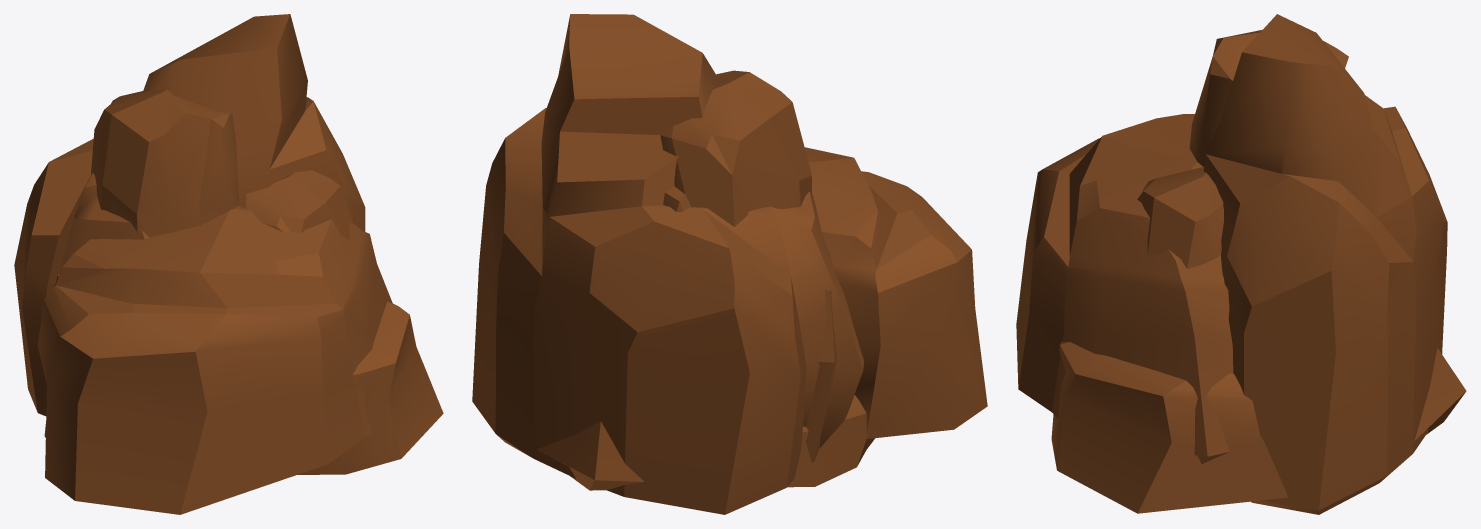
Rendered from rock.glb.
3 renders of one model, left to right at view 1: azimuth 30°, elevation 25°; view 2: azimuth 150°, elevation 25°; view 3: azimuth 270°, elevation 25°, orthographic. The views are drawn at different scales.
Parts seen in each view (by area): view 1: Rock_Large_2, Rock_Large_3, Rock_Large_1; view 2: Rock_Large_2, Rock_Large_3, Rock_Large_1; view 3: Rock_Large_2, Rock_Large_1, Rock_Large_3.
Part boxes in pixels (box(x1,y1,x2,y2)): Rock_Large_2: box(14, 14, 392, 514); Rock_Large_3: box(91, 89, 352, 240); Rock_Large_1: box(44, 301, 443, 474); Rock_Large_2: box(472, 14, 987, 514); Rock_Large_3: box(660, 70, 811, 226); Rock_Large_1: box(537, 395, 874, 490); Rock_Large_2: box(1016, 14, 1447, 514); Rock_Large_1: box(1051, 341, 1466, 513); Rock_Large_3: box(1137, 29, 1348, 268).
Size of what is drawn, in the model's own units: 8.63 by 8.45 by 7.95.
Materials: 1 (1 with a texture image).
